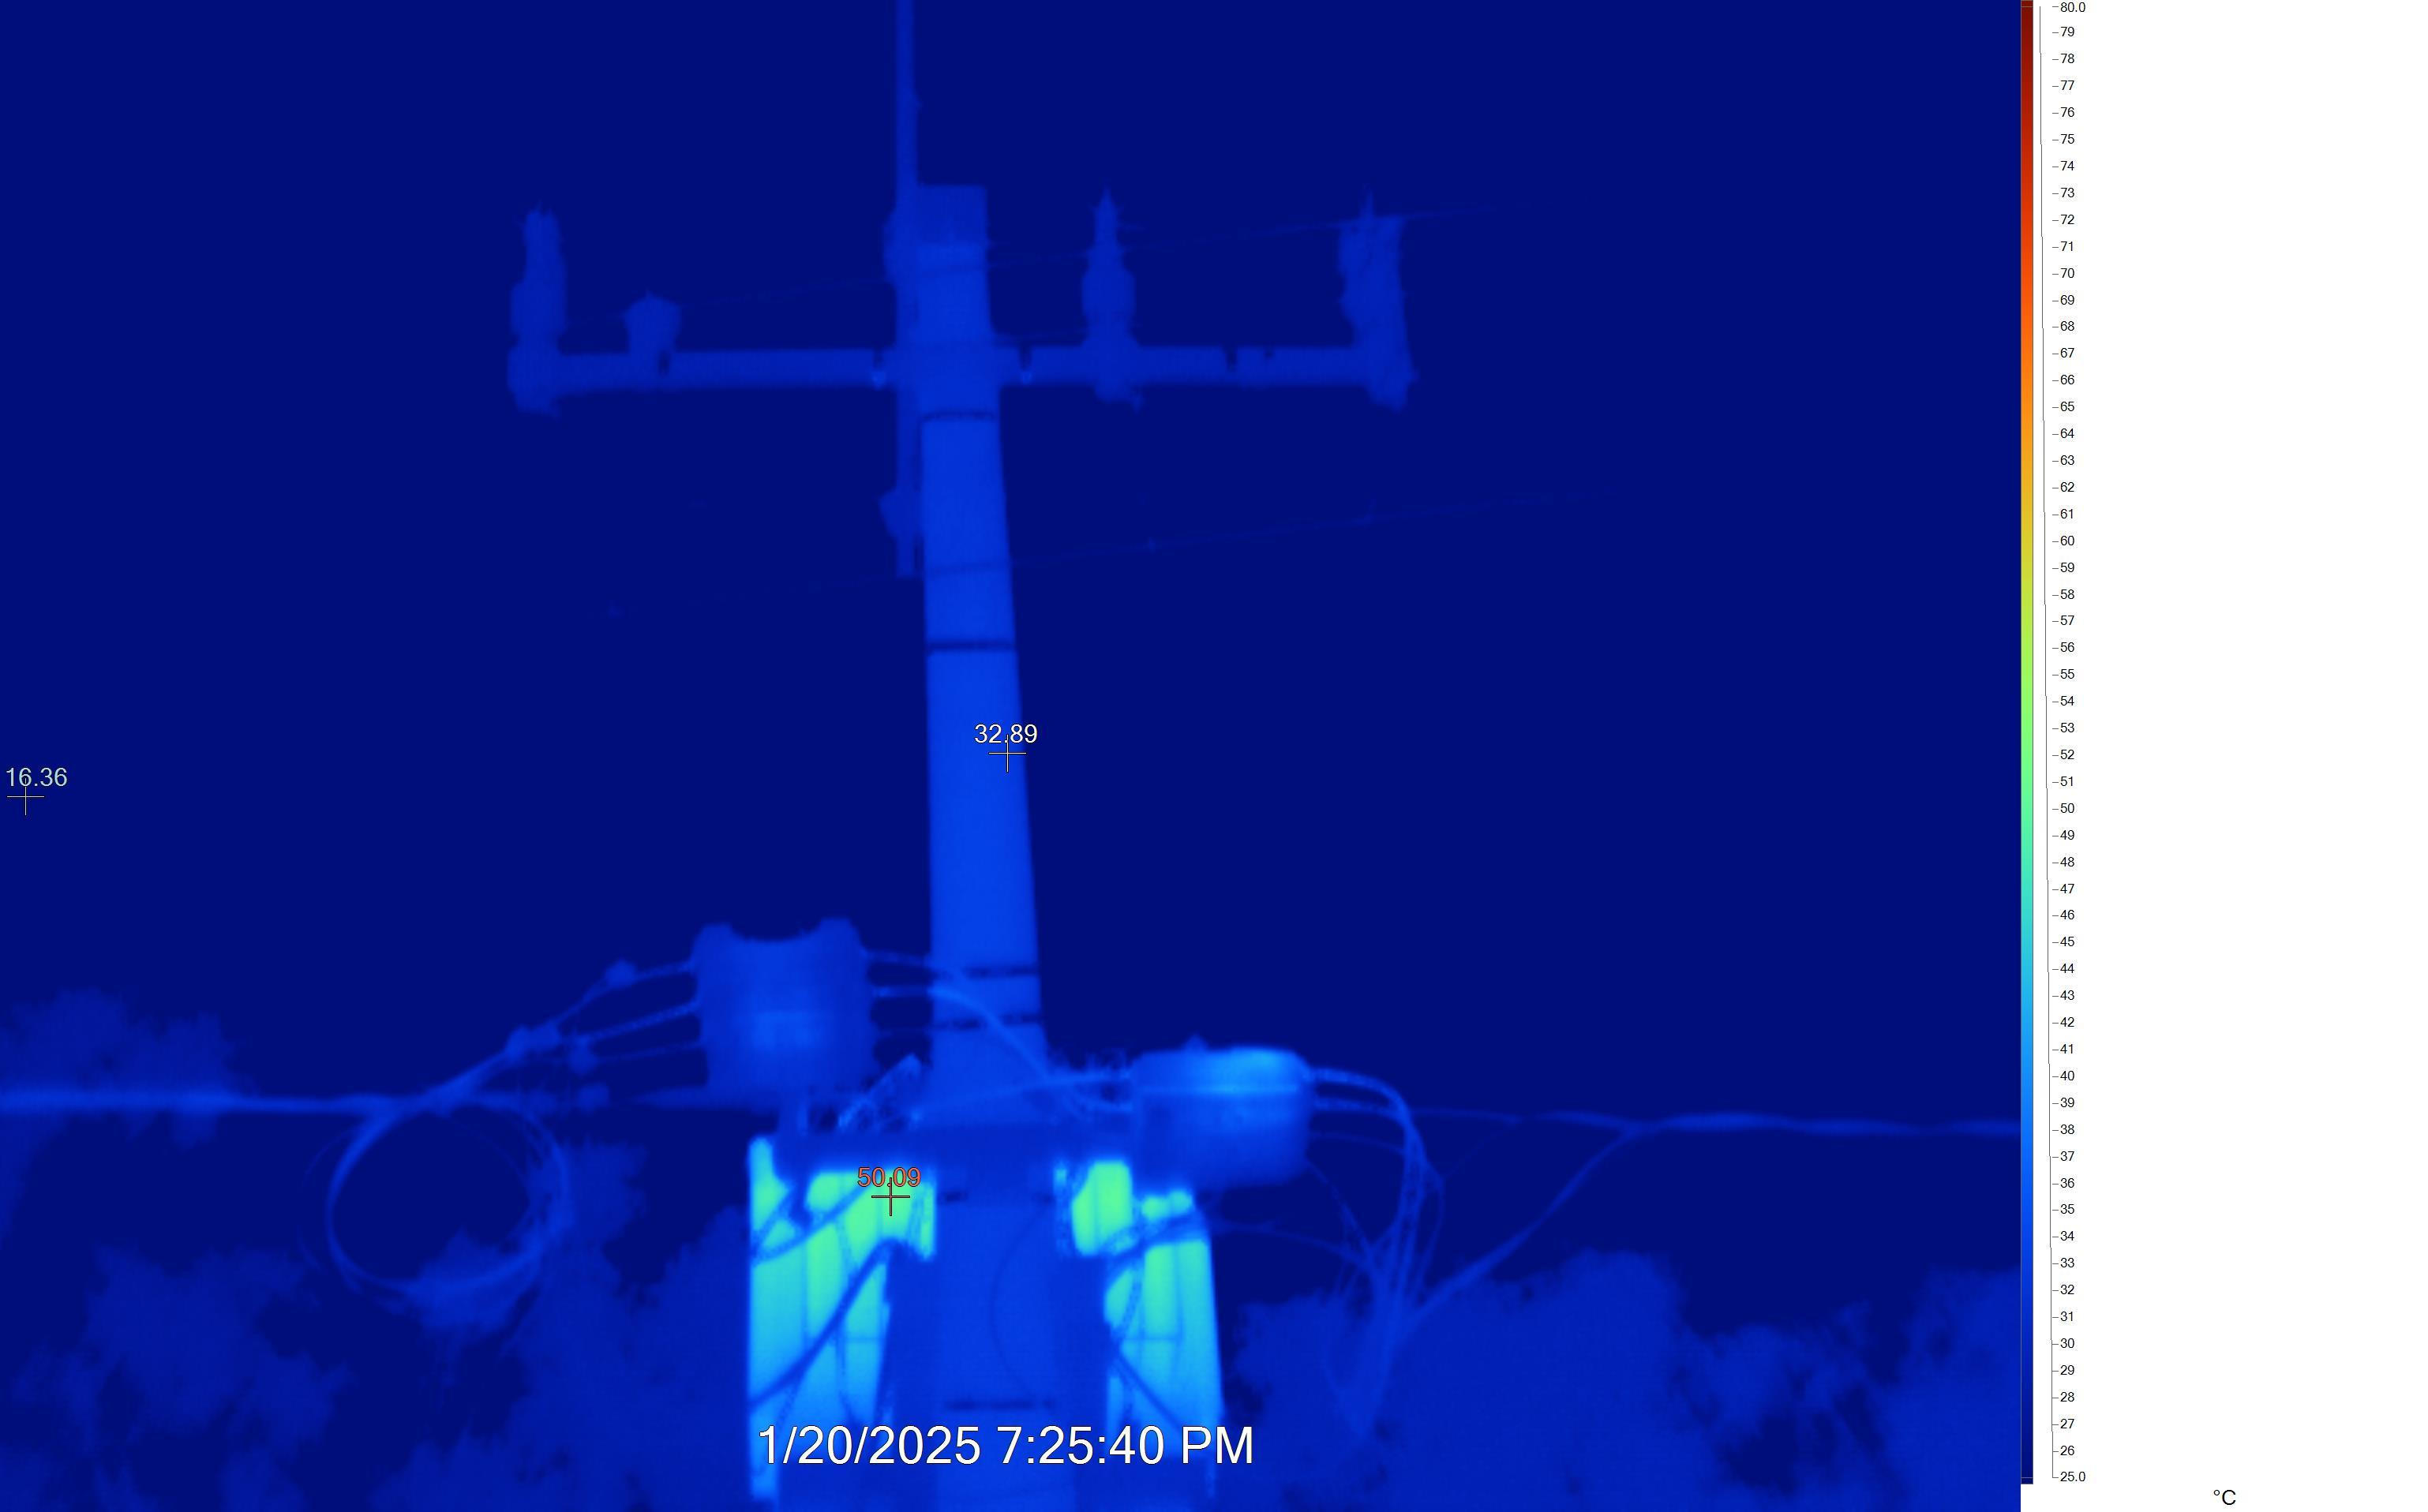normal: (751, 1134, 1221, 1446)
